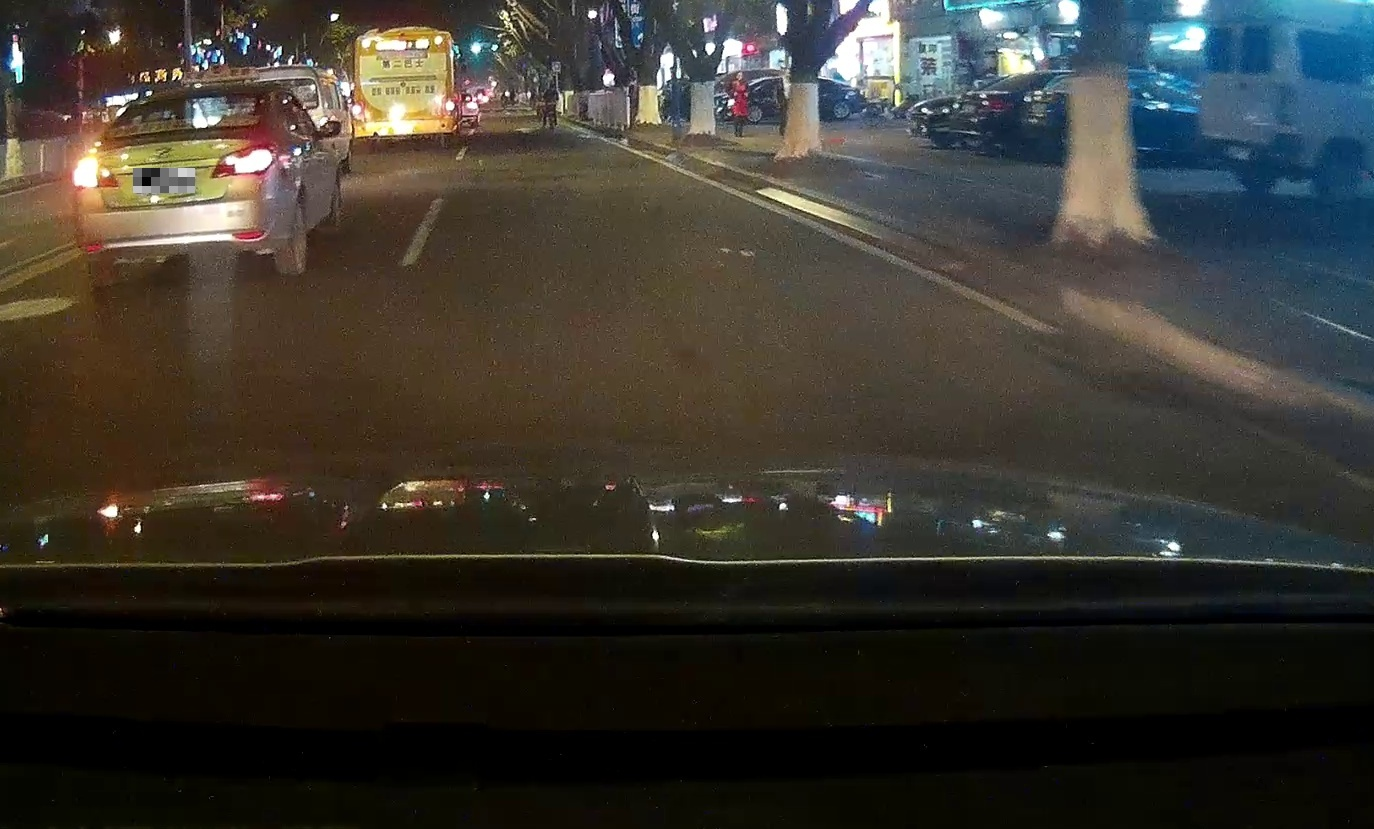L_light: (72, 157, 118, 189), (352, 105, 361, 116)
R_light: (210, 143, 276, 179), (444, 100, 455, 111)
T_light: (176, 98, 197, 103), (393, 39, 412, 43)
night-left: (72, 85, 280, 290)
night-no: (351, 30, 456, 154)
plate_1: (133, 168, 195, 193)
